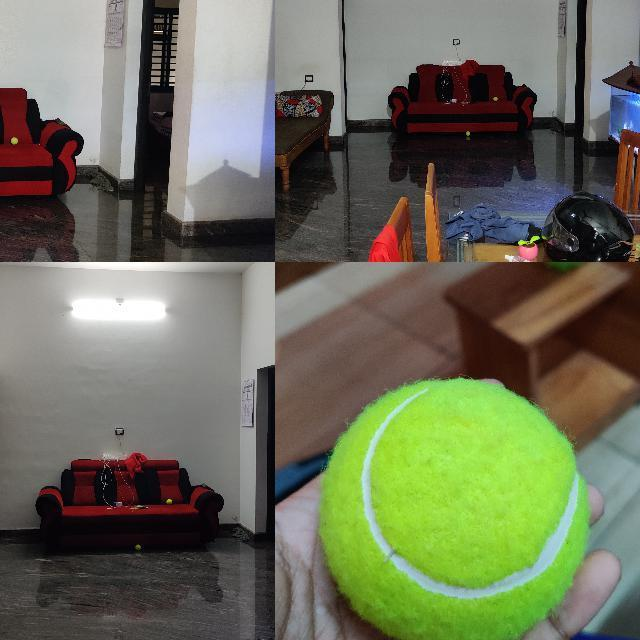tennis-ball: (321, 379, 590, 639), (11, 137, 18, 144), (166, 498, 172, 504), (135, 544, 141, 550), (493, 97, 498, 101), (465, 131, 469, 135)
